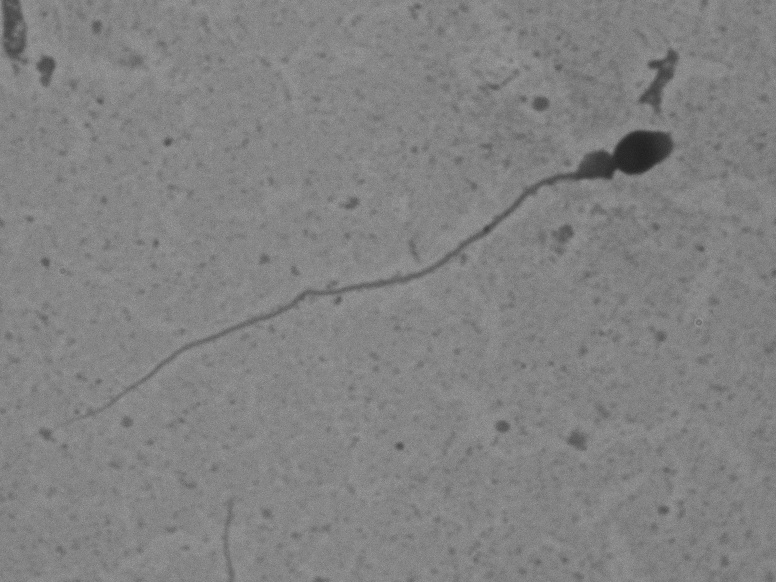Abnormal: (35, 112, 696, 460)
